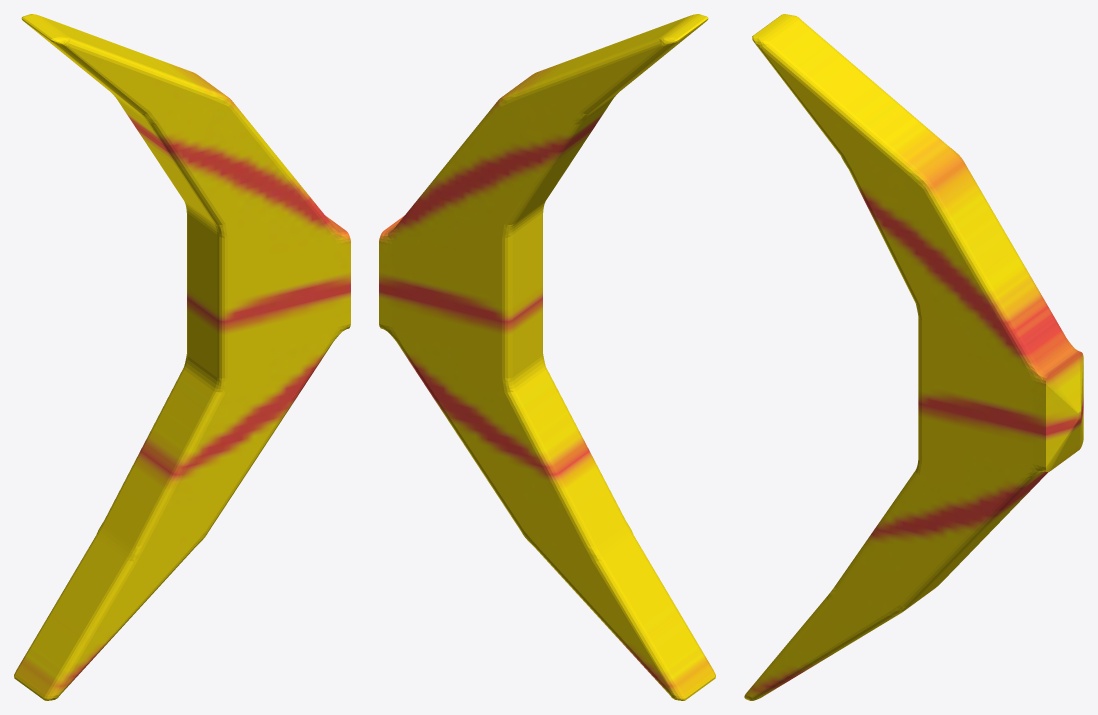
Rendered from Fish6_Tail.dae.
The picture shows the model from 3 angles, left to right: view 1: azimuth 30°, elevation 25°; view 2: azimuth 150°, elevation 25°; view 3: azimuth 330°, elevation 25°; orthographic projection.
Parts seen in each view (by area): view 1: Cube_Cube_002; view 2: Cube_Cube_002; view 3: Cube_Cube_002.
Boxes of the visible parts, x1,y1,x2,y2 form: Cube_Cube_002: [14, 14, 350, 700]; Cube_Cube_002: [379, 14, 715, 700]; Cube_Cube_002: [744, 14, 1083, 700].
Bounding box in the file's own units: 0.3633 × 0.0741 × 0.7216.
1 material, 1 textured.
